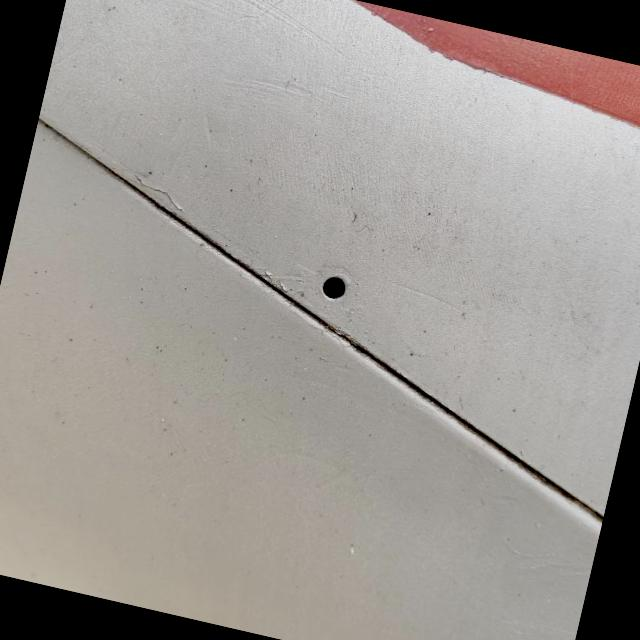Missing Fastener: (309, 261, 362, 316)
